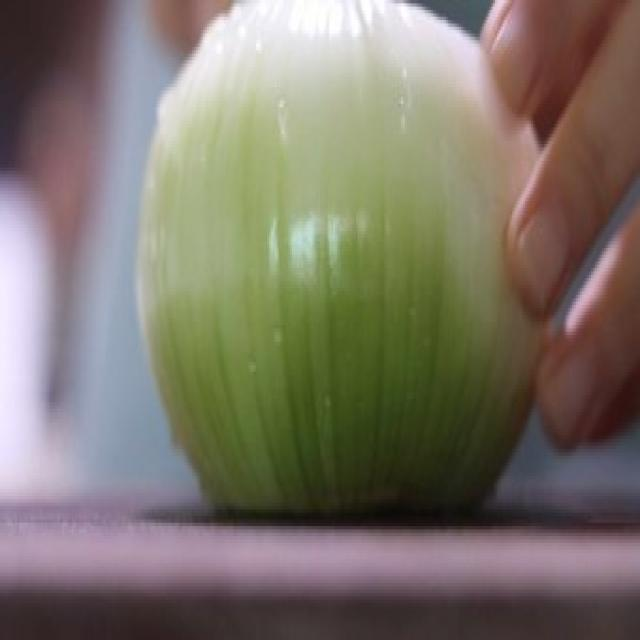onion: (135, 3, 563, 540)
